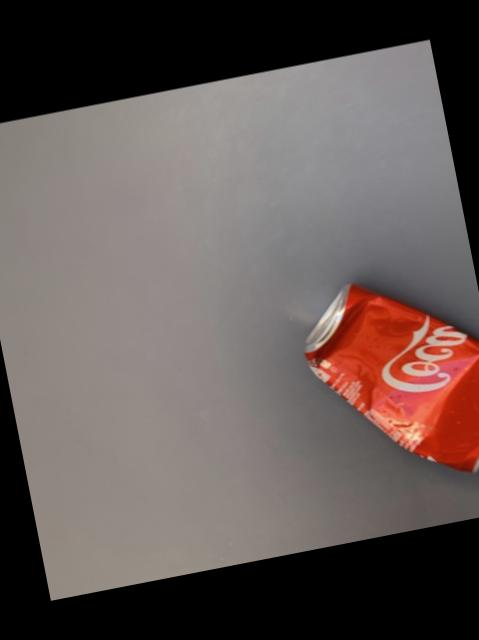metal: (305, 286, 479, 472)
